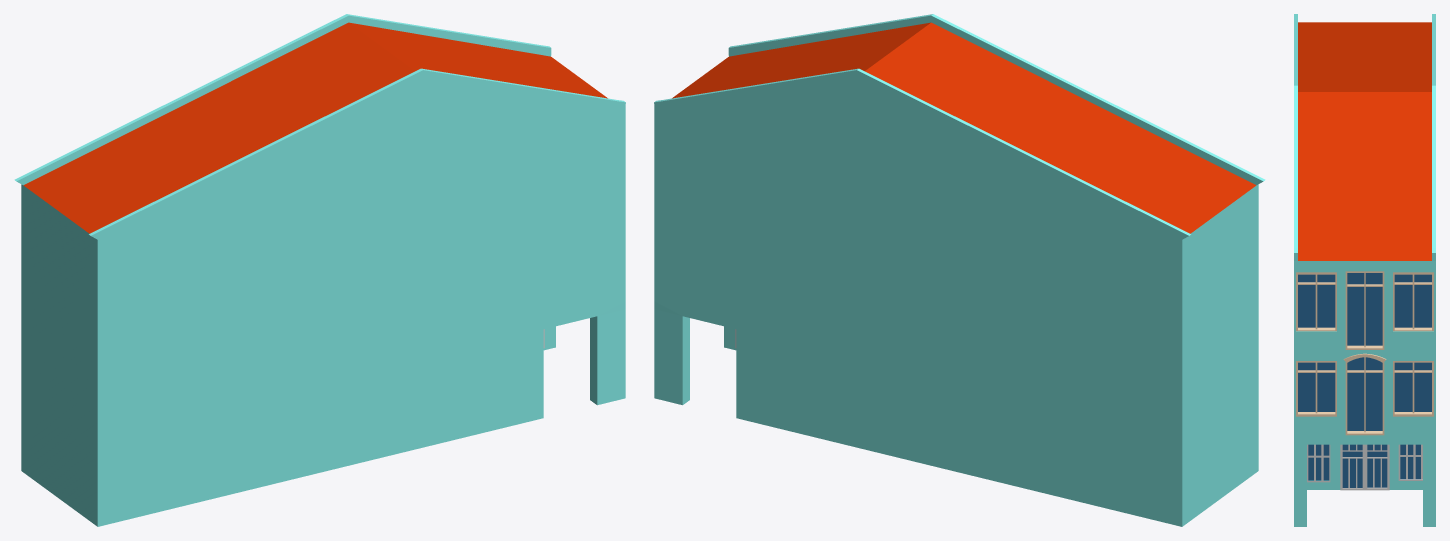
Rendered from house3.fbx.
3 views of the same model, side by side, from view 1: azimuth 30°, elevation 25°; view 2: azimuth 150°, elevation 25°; view 3: azimuth 270°, elevation 25° (orthographic). The views are drawn at different scales.
Parts seen in each view (by area): view 1: house2; view 2: house2; view 3: house2.
Part boxes in pixels (x1=…): house2: x1=14, y1=14, x2=625, y2=526; house2: x1=654, y1=14, x2=1265, y2=526; house2: x1=1294, y1=14, x2=1435, y2=526.
Size of the model in its own units: 1208 by 813 by 299.
